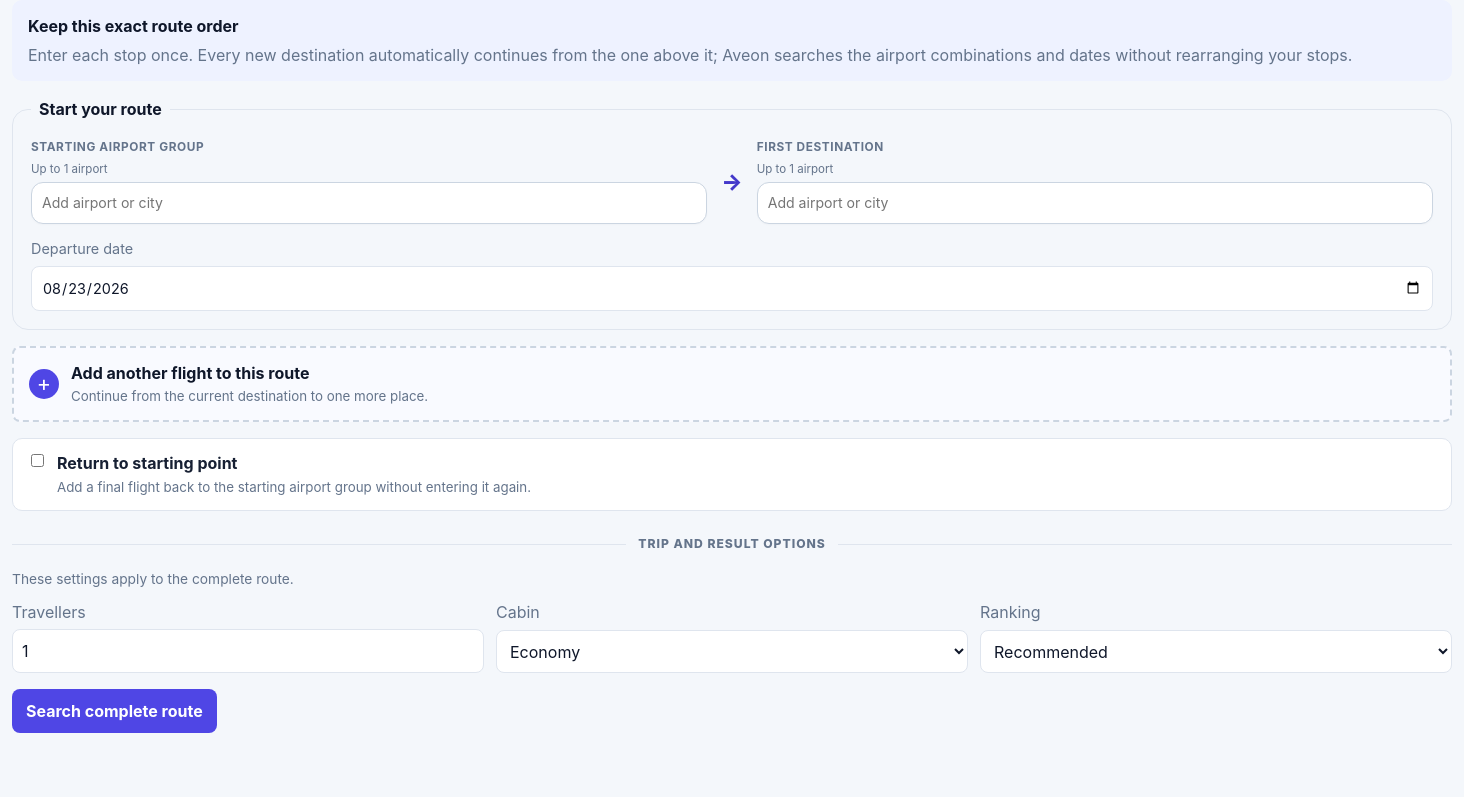
Test: OrderedRouteSearch › uses server-provided ordered-leg and airport-group limits
Expected: the element with class "options-divider" reads "Trip and result options", x1=638 y1=536 x2=826 y2=551
Click the button with class "secondary-action".
click(190, 373)  # box x1=12 y1=346 x2=1452 y2=422
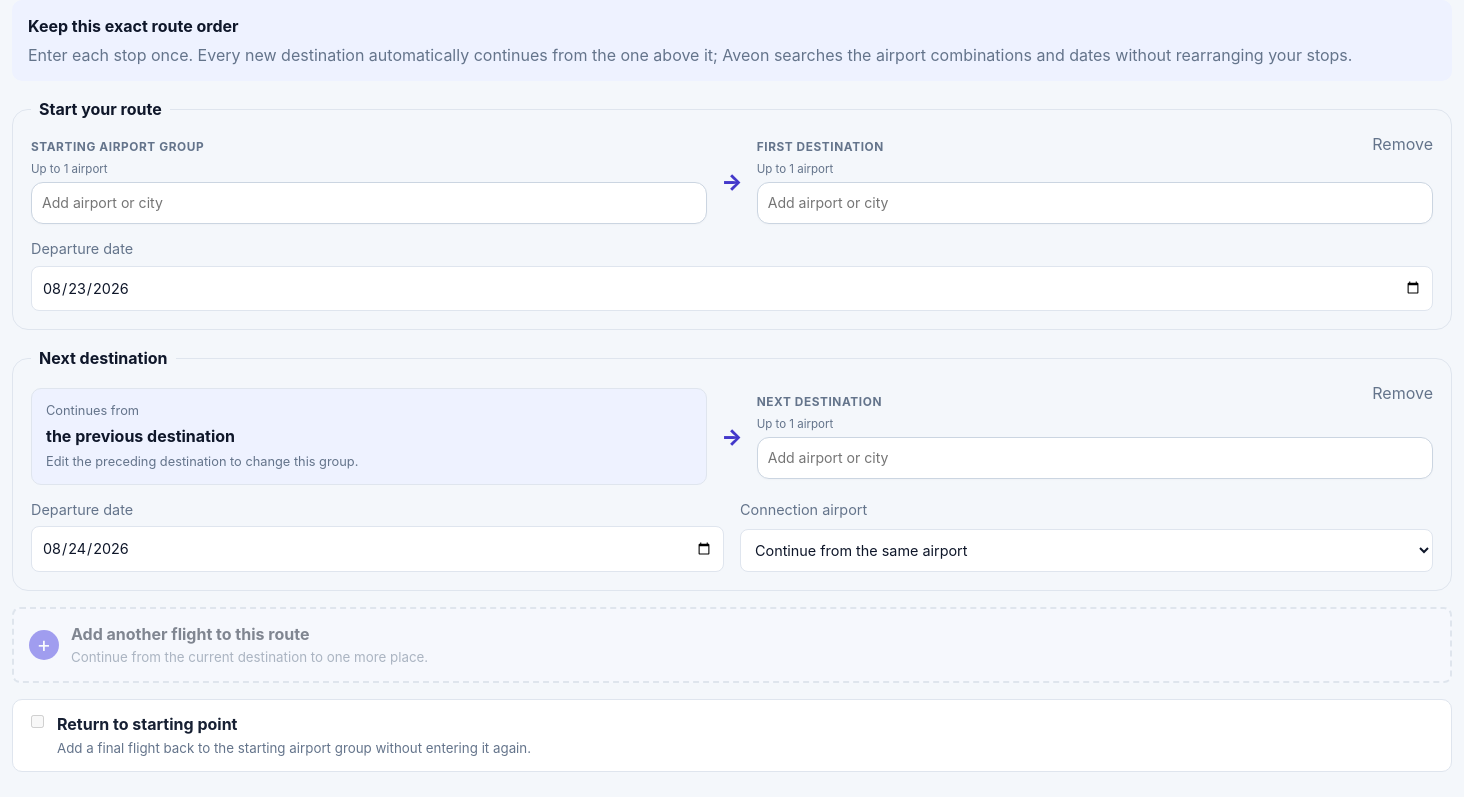
Expected: the number of elements with class "ordered-leg" is 2, x1=12 y1=97 x2=1452 y2=330; x1=12 y1=346 x2=1452 y2=591
Expected: the button with class "secondary-action" is disabled, x1=12 y1=607 x2=1452 y2=683
Expected: the checkbox is disabled, x1=31 y1=715 x2=44 y2=728
